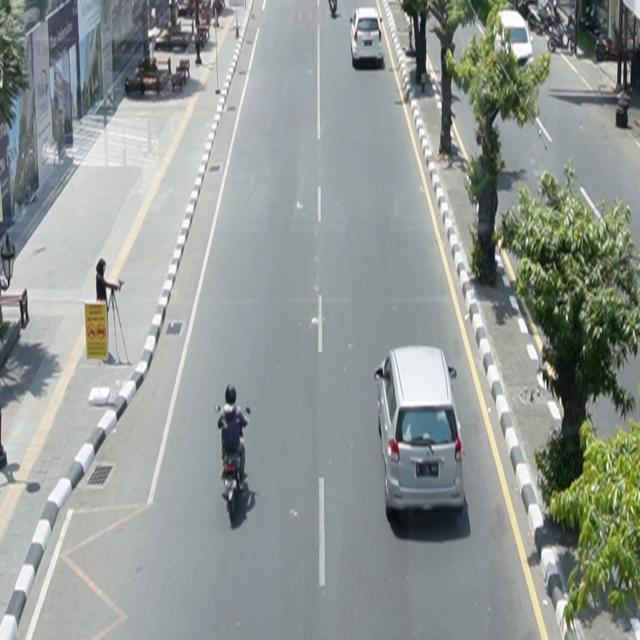car: (375, 345, 466, 523), (492, 10, 535, 70), (350, 8, 385, 69)
